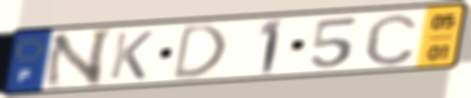1: (257, 19, 287, 76)
5: (307, 15, 362, 70)
C: (361, 11, 421, 68)
D: (169, 22, 230, 83)
K: (105, 29, 157, 81)
N: (40, 26, 116, 91)
